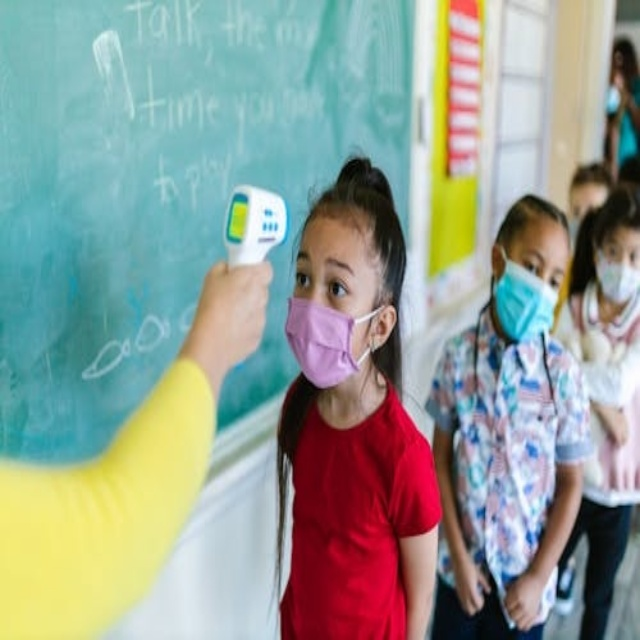Mascara: (292, 294, 390, 388), (498, 259, 554, 342), (591, 252, 635, 308)
Sin_gafas: (296, 234, 370, 294), (512, 238, 562, 286), (604, 238, 639, 273)
Sin_guantes: (189, 254, 276, 374), (501, 564, 548, 630), (453, 548, 488, 617), (608, 424, 639, 493)
